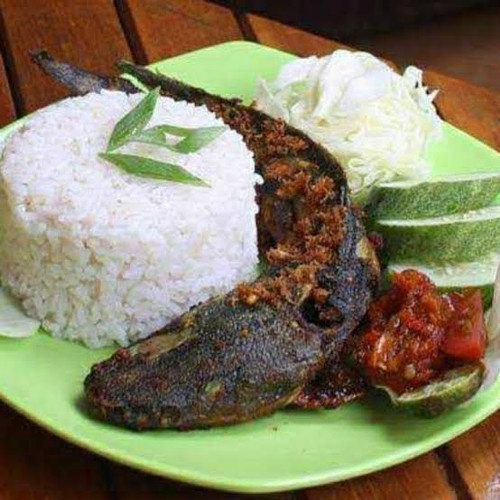pecel_lele: (61, 279, 333, 432), (242, 106, 355, 422)
